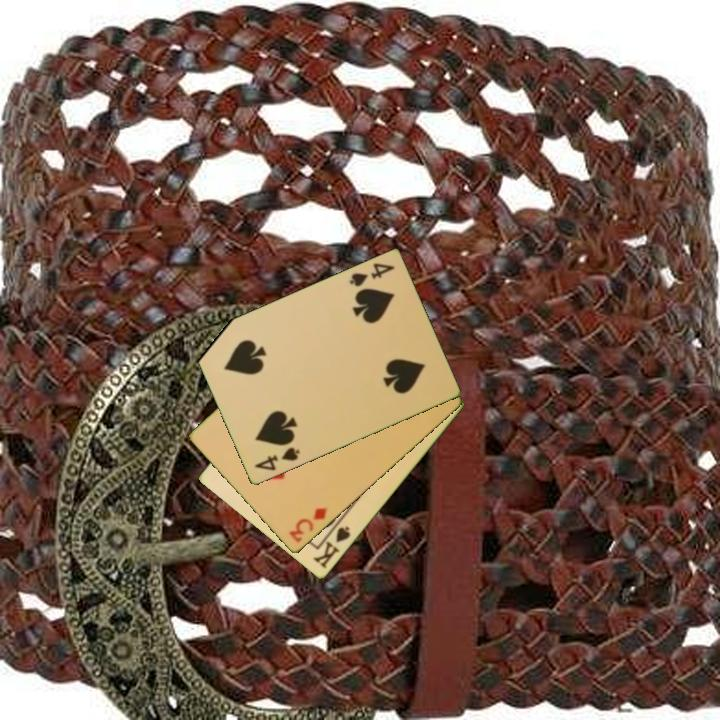3d: (285, 504, 330, 546)
4s: (251, 444, 303, 474), (345, 260, 397, 290)
Ks: (309, 518, 353, 572)
